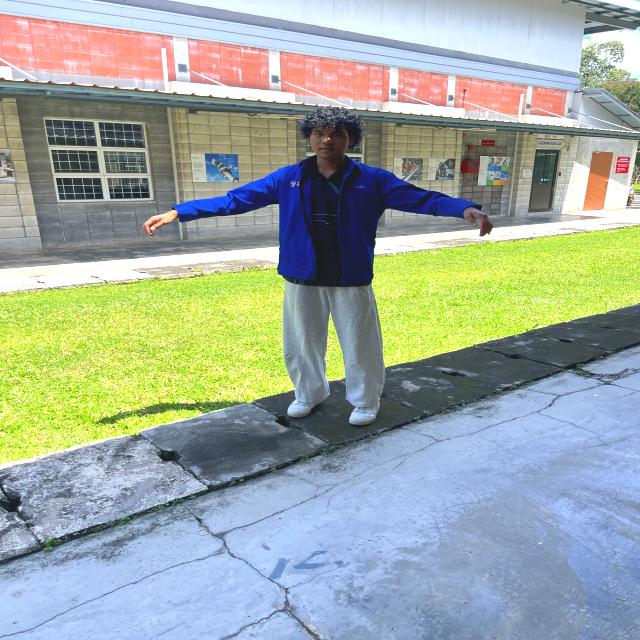person_with_labcoat: (145, 107, 491, 426)
